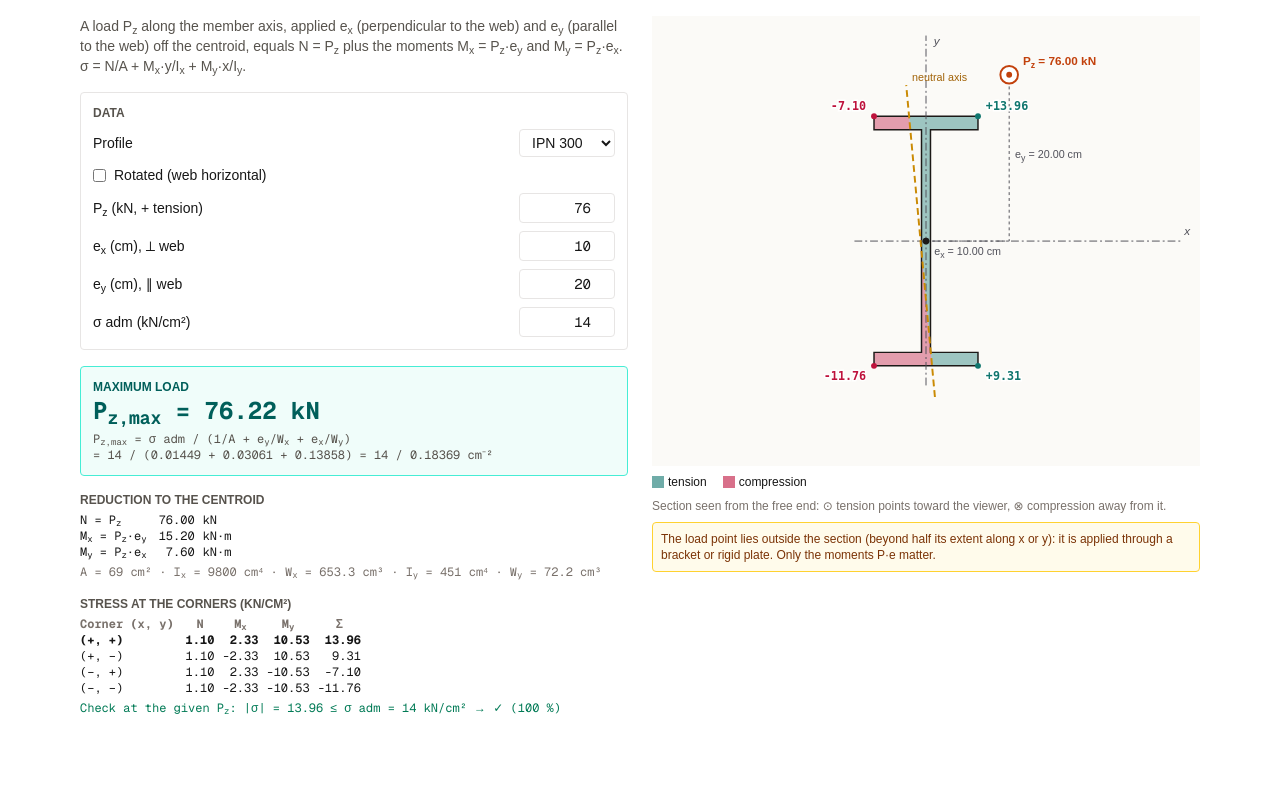
Scenario: EccentricSection › the load point is outside the section for e_x = 10, e_y = 20, and inside for small e
Check: the text with test id "ecc-outside" is shown, box left=652, top=522, right=1200, bottom=572
Replace the text in the number field named "e_x" with "2". click: (567, 246)
box: left=519, top=231, right=615, bottom=261
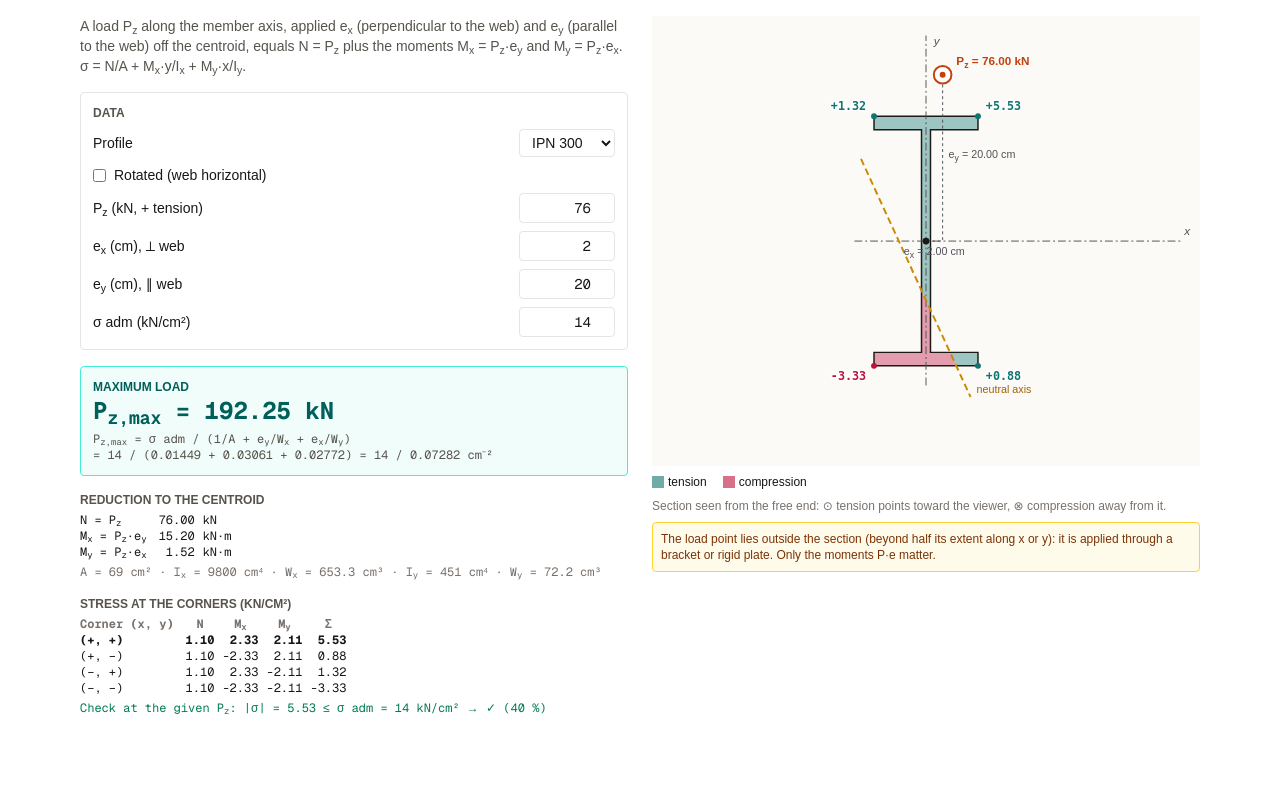
Replace the text in the number field named "e_y" with "5". click: (567, 284)
box: left=519, top=269, right=615, bottom=299
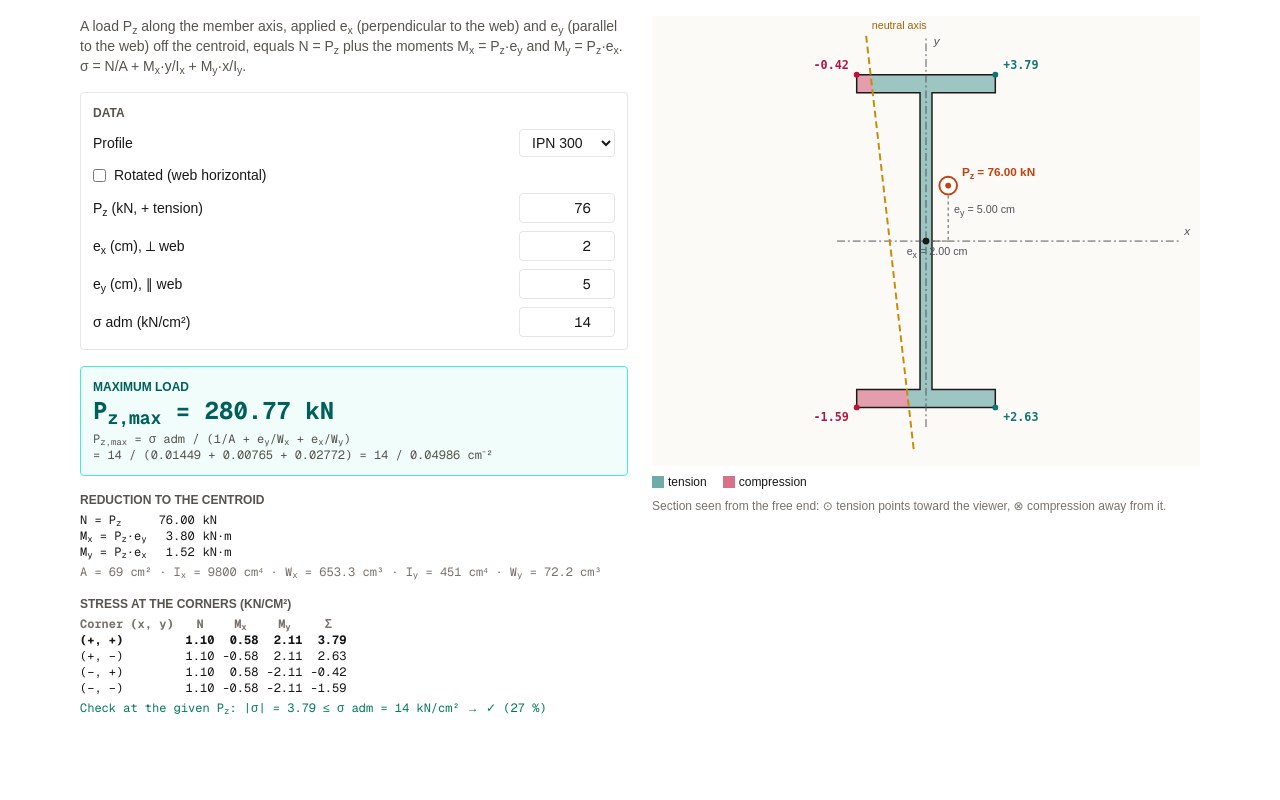
Check: the text with test id "ecc-outside" is gone
